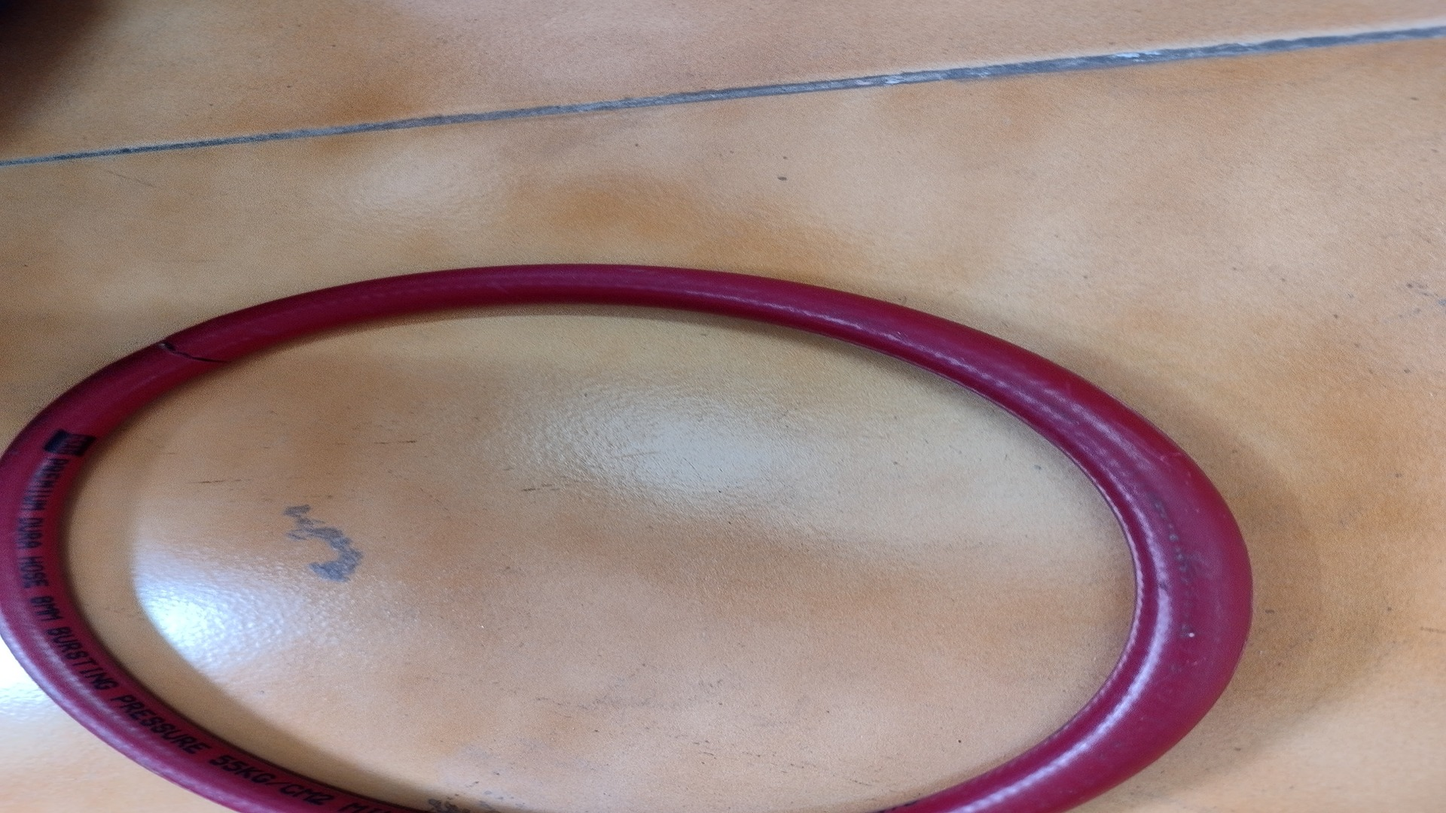Red ring: (5, 264, 1255, 813)
